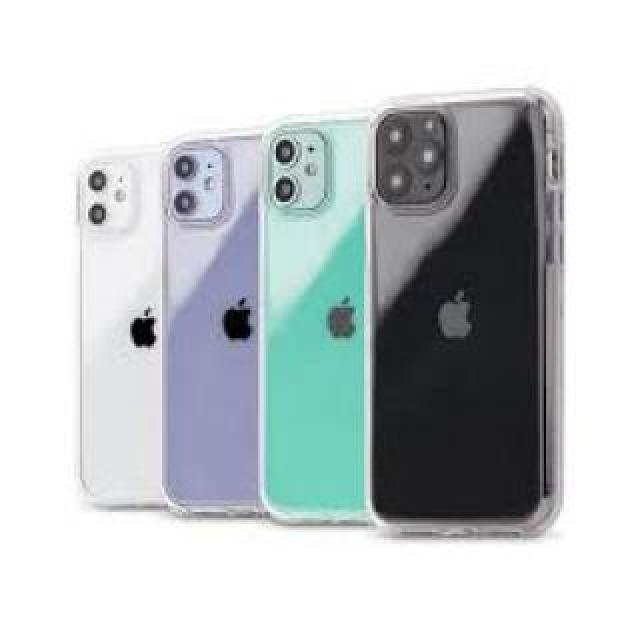smart phone: (362, 91, 562, 579), (61, 124, 189, 554), (254, 100, 375, 553), (154, 91, 268, 569)
